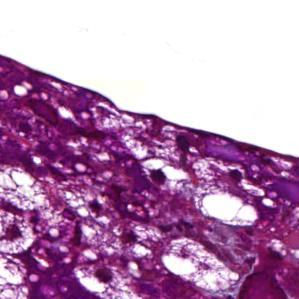ballooning: (159, 238, 240, 294), (4, 165, 57, 222), (137, 158, 194, 199), (4, 208, 38, 260)
